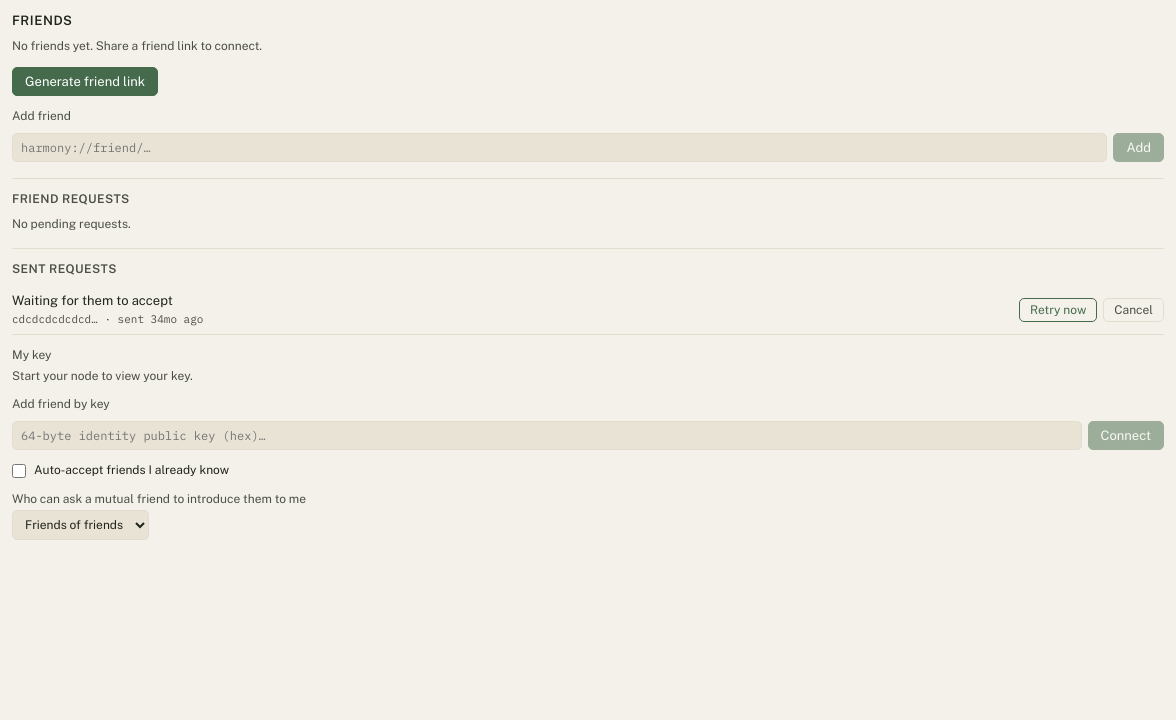
FriendsPanel — outbound requests (ZEB-784 / ZEB-783) › surfaces a Retry now failure instead of masking it as normal waiting
Check: the element with test id "outbound-requests-section" is shown, box [12,248,1164,335]
Step 1. Click the button "Retry now" → x=1058, y=310, box [1019,298,1097,322]
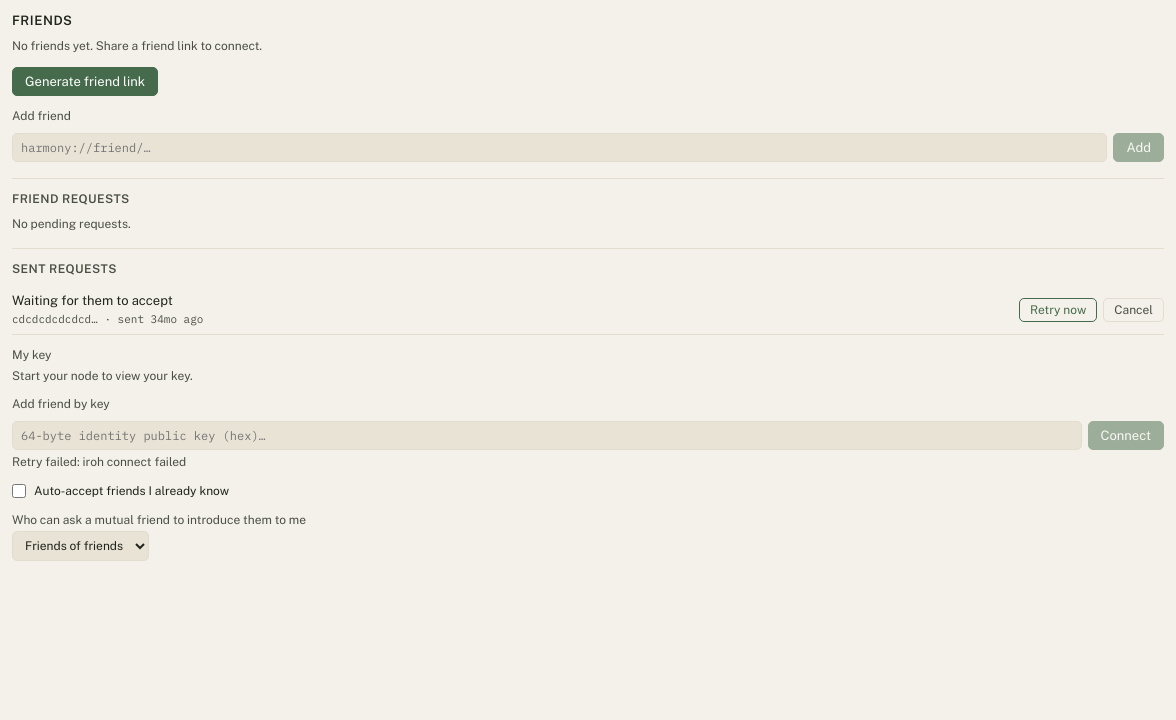
Check: the element with test id "outbound-requests-section" is shown, box [12,248,1164,335]
Check: the text with test id "add-by-key-status" shows "iroh connect failed", box [12,455,186,469]
